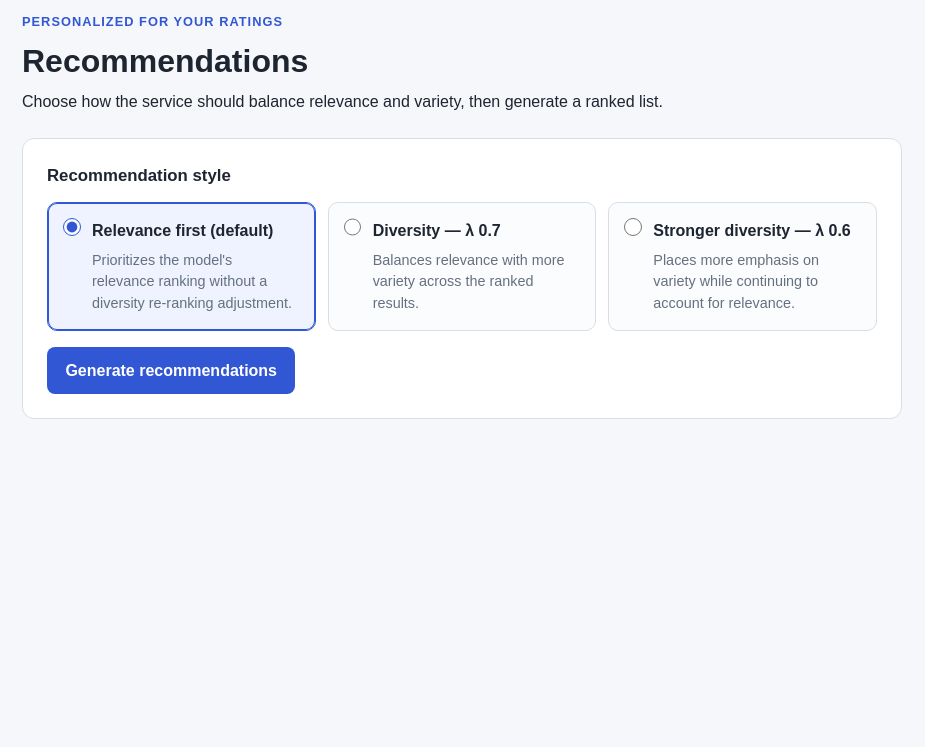
Test case: retains successful results as stale after selection and clears staleness after regeneration
Click the button "Generate recommendations" at (171, 371), box [47,347,295,394]
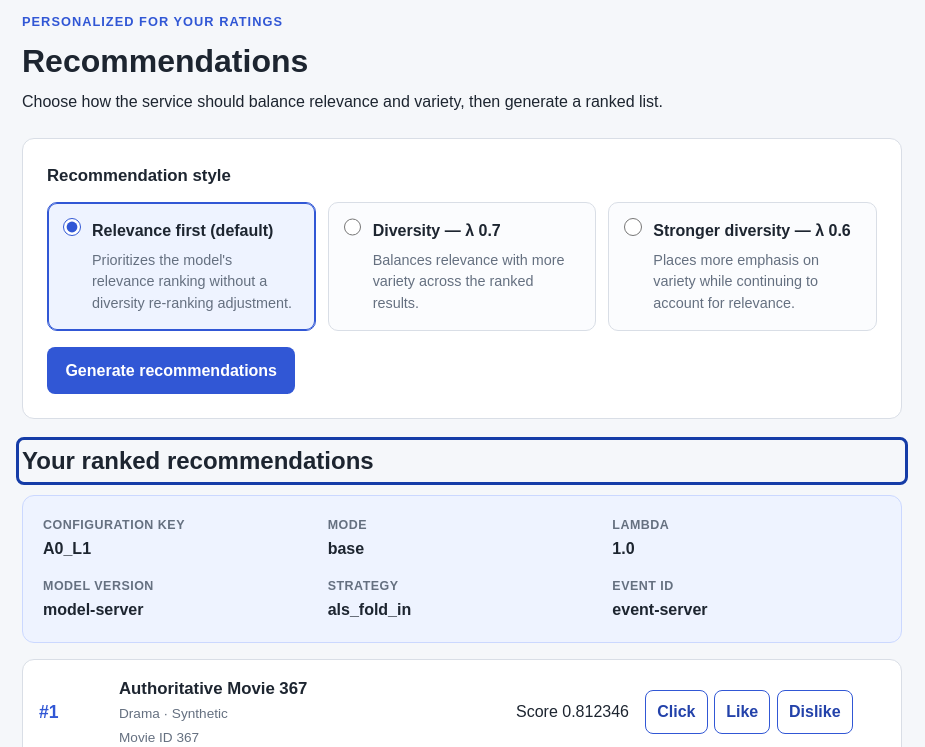
Result: the text "Movie ID 367" is shown at [119,730,199,745]
Click the radio button labelled "Diversity — λ 0.7" at (352, 227), box [344,218,361,236]
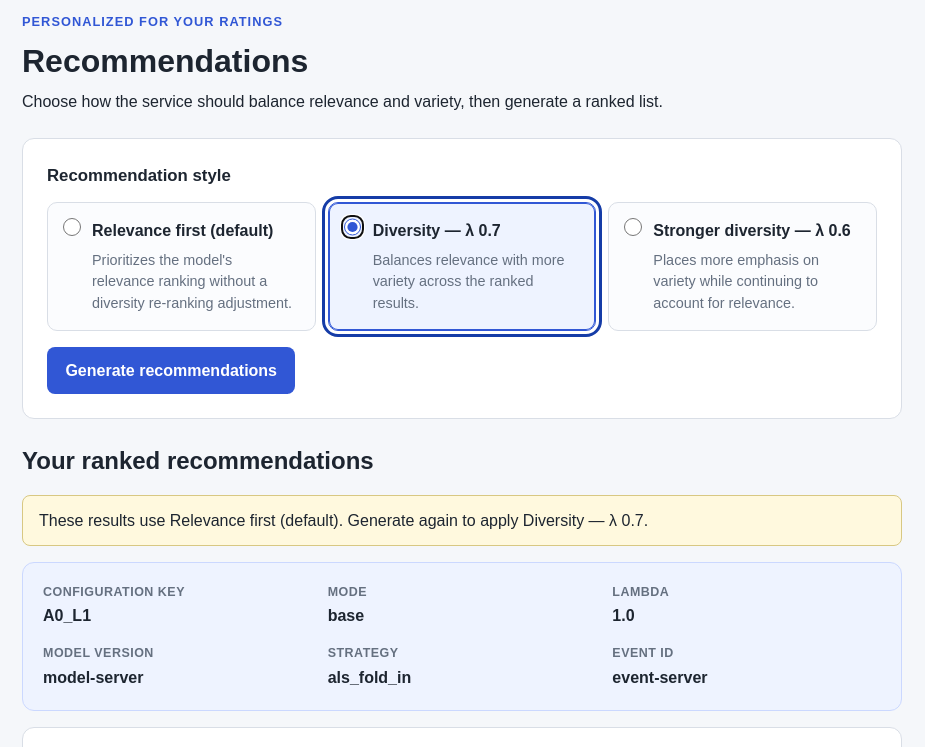
Result: the message shows "These results use Relevance first (default). Generate again to apply Diversity — λ 0.7." at [22,495,902,546]
Click the button "Generate recommendations" at (171, 371), box [47,347,295,394]
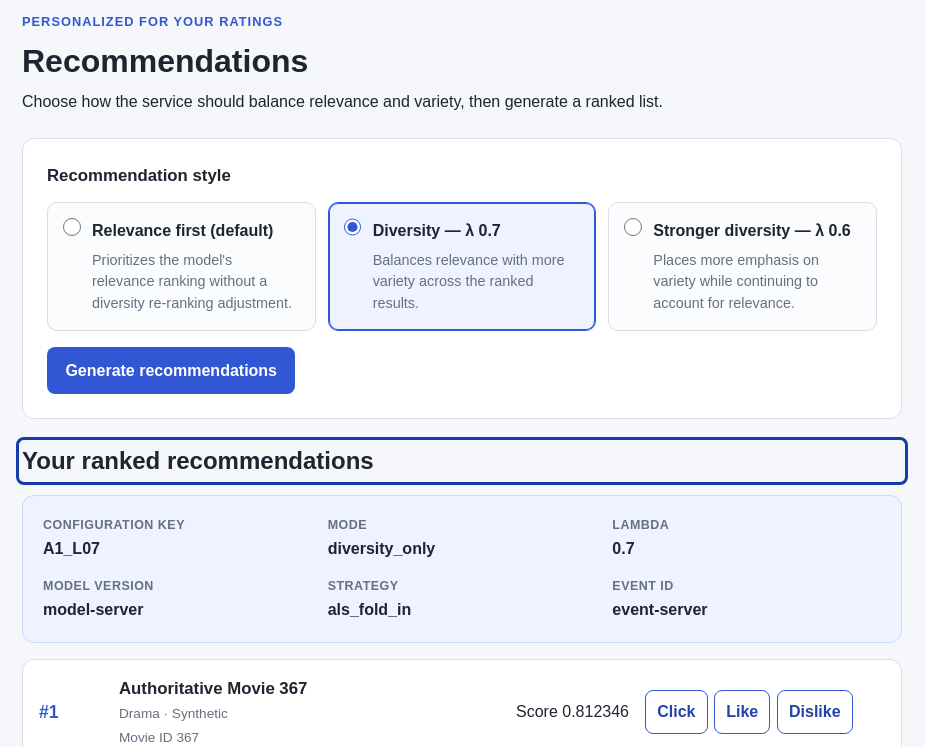
Result: the text "These results use" is gone
Result: the text "diversity_only" is shown at [328,540,435,557]
